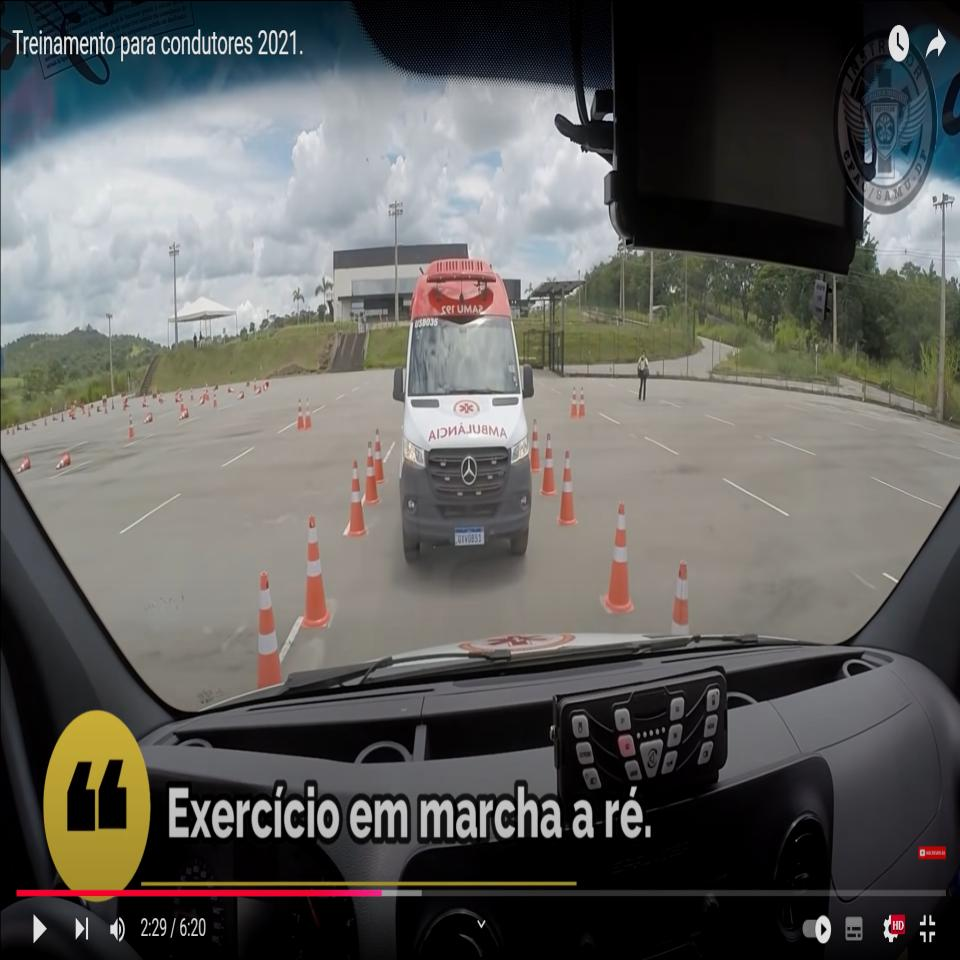ambulancia: (390, 254, 538, 566)
